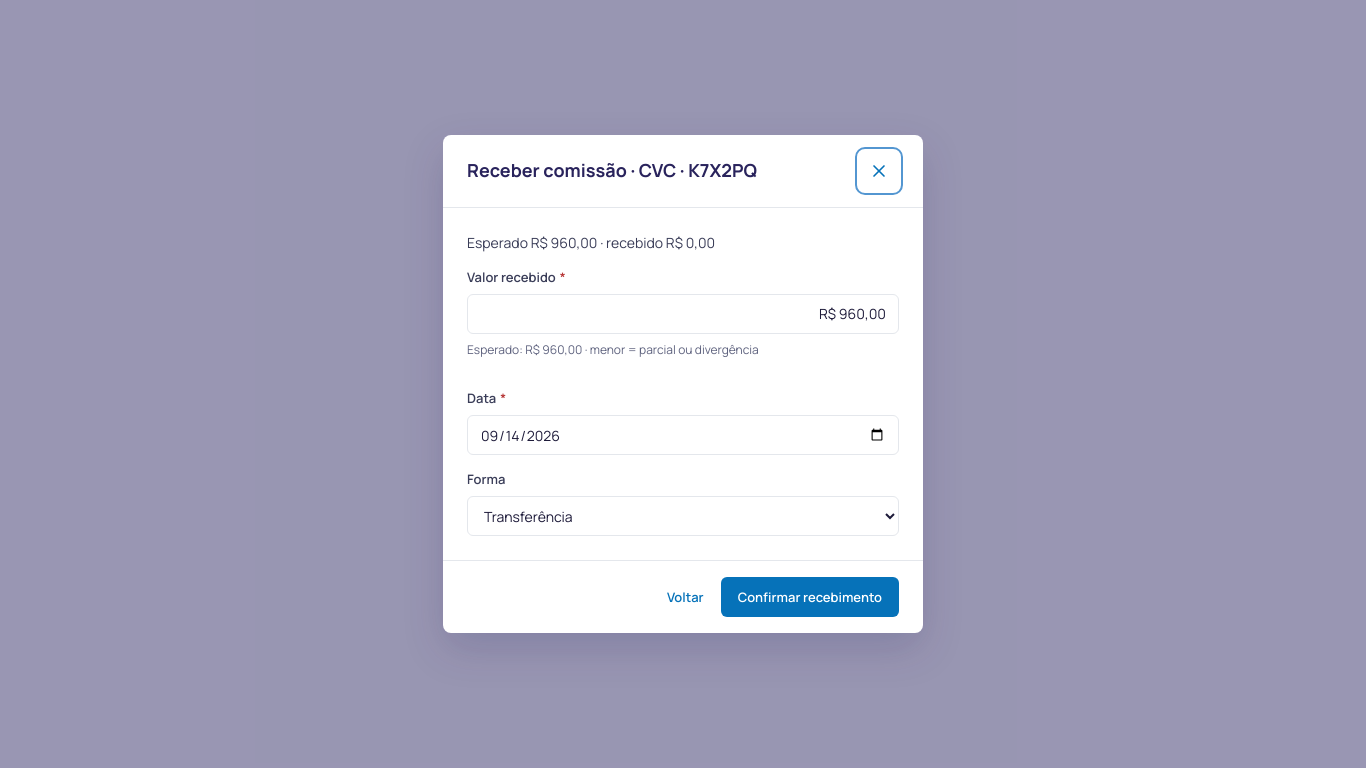
Test: aviso 'Marque Registrar mesmo assim' some assim que a checkbox é marcada
What coordinates should you click on to do the following:
click the button "Confirmar recebimento"
I would click on:
 (810, 597)
Its box is [721,577,899,617].
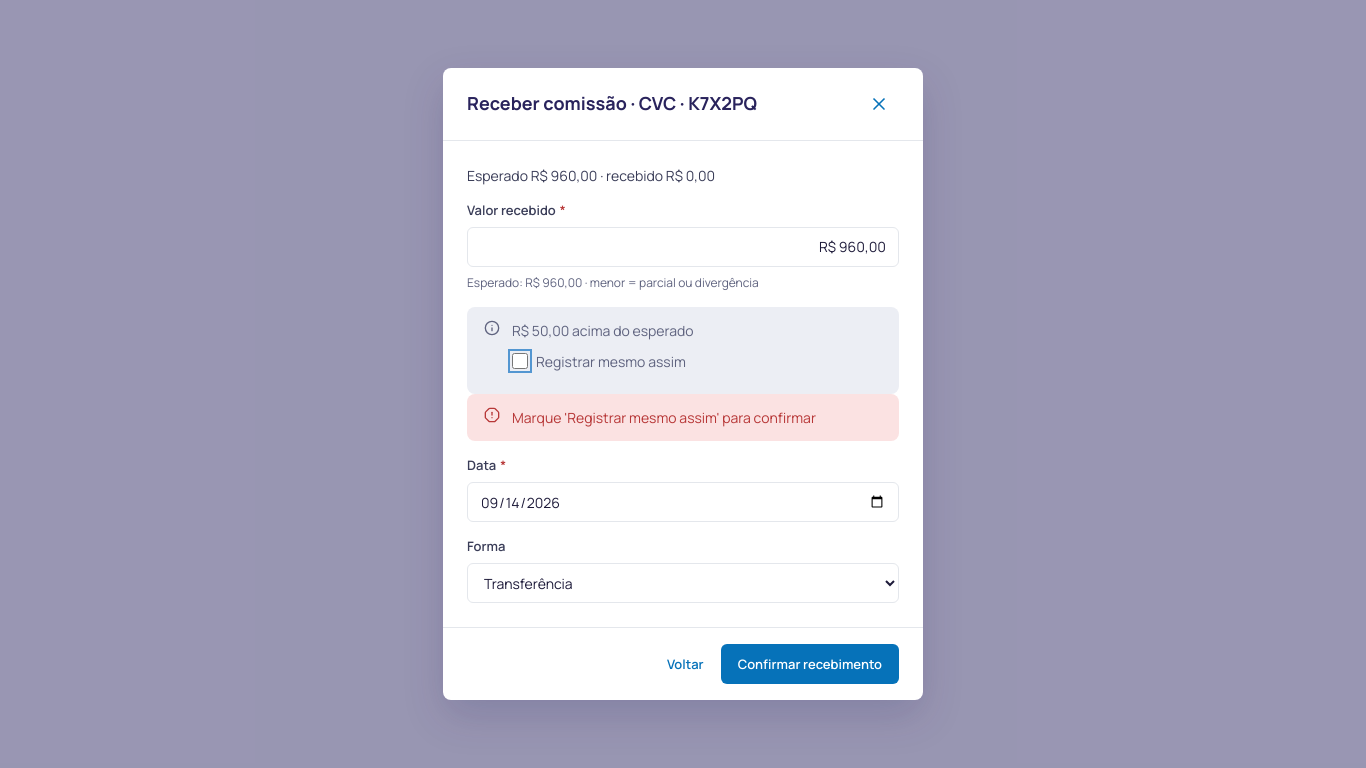
Now the text "Marque 'Registrar mesmo assim' para confirmar" is shown, box [512,408,816,428]
What coordinates should you click on to do the following:
click the checkbox labelled "Registrar mesmo assim"
I would click on:
 (520, 362)
Its box is [512,354,528,370].
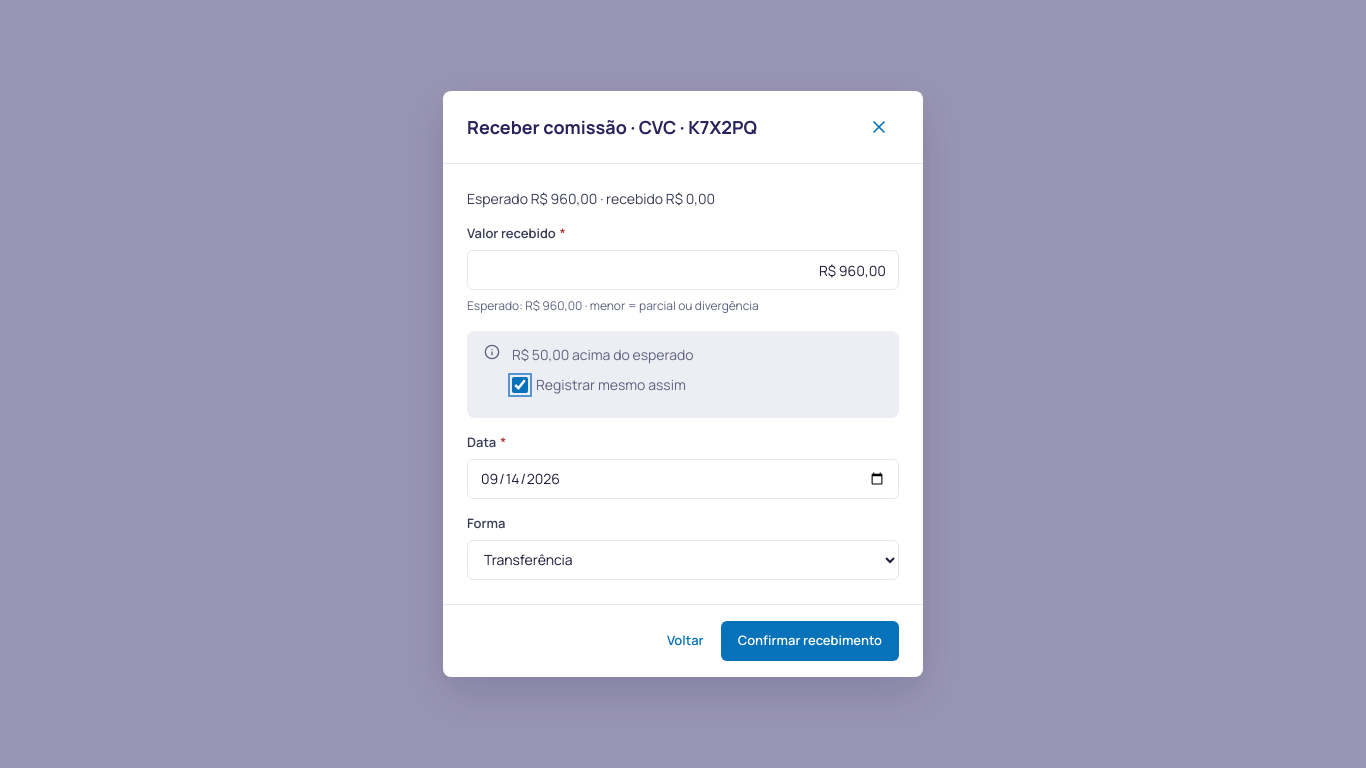
Now the text "Marque 'Registrar mesmo assim'" is gone
